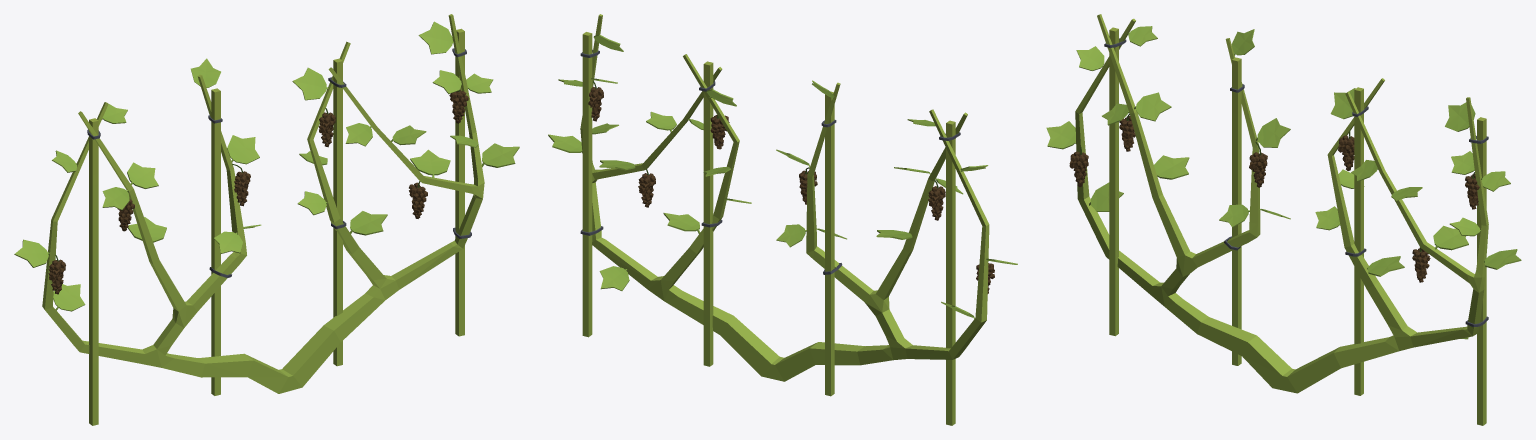
The model's file is GrapePlant_02.fbx.
3 views of the same model, side by side, from view 1: azimuth 30°, elevation 25°; view 2: azimuth 150°, elevation 25°; view 3: azimuth 330°, elevation 25° (orthographic).
Visible parts, largest first — view 1: GrapePlant_02; view 2: GrapePlant_02; view 3: GrapePlant_02.
Part boxes in pixels (x1,y1,x2,y2): GrapePlant_02: (14,14,519,425); GrapePlant_02: (548,14,1017,425); GrapePlant_02: (1046,14,1521,425).
Bounding box in the file's own units: 3.6 × 2.3 × 0.4655.
